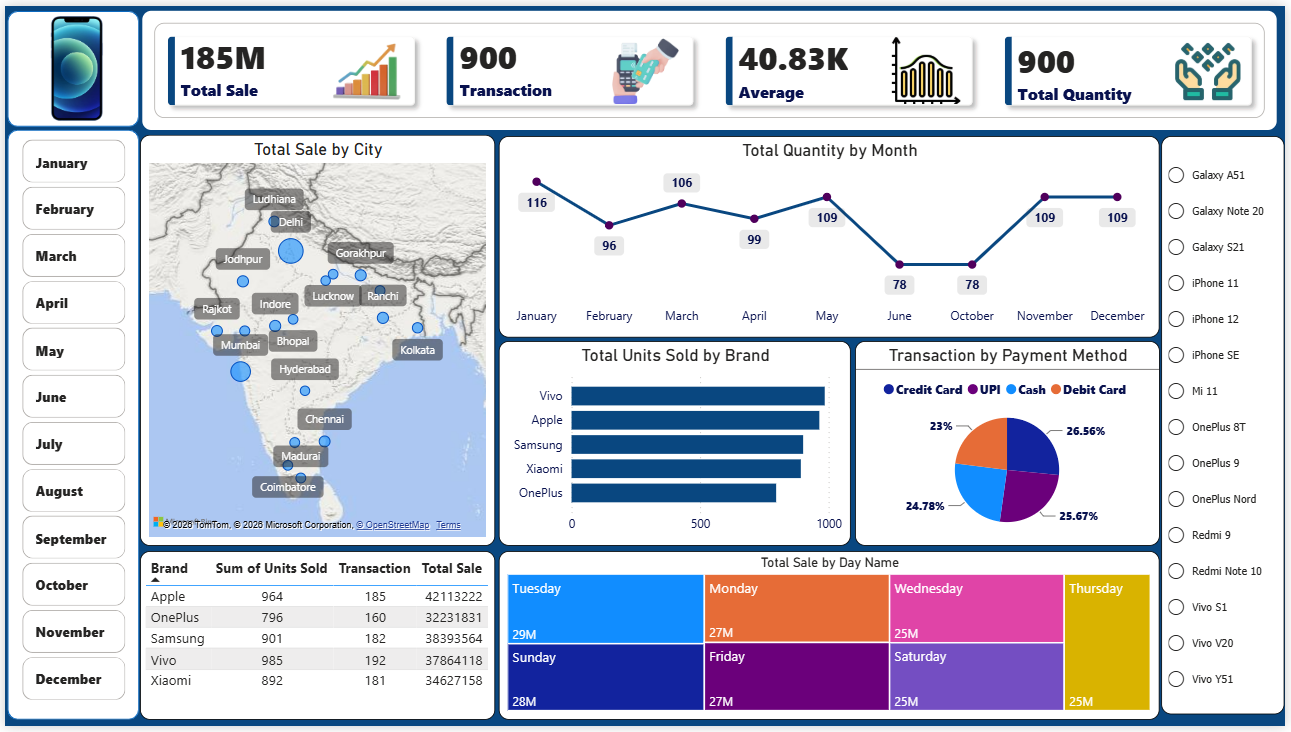

Layout of this report page (visuals, bound fields, positions):
{"tool":"powerbi","page":{"name":"Page 1","canvas":[1280,720],"ordinal":0},"visuals":[{"type":"shape","box":[2.4,4.8,131.5,115.8],"z":0},{"type":"image","box":[0,0,143.6,124.3],"z":1000},{"type":"shape","box":[2.4,124.3,131.5,589.9],"z":2000},{"type":"advancedSlicerVisual","fields":{"Values":["Moblie Sales Data.Date.Variation.Date Hierarchy.Month"]},"box":[12.1,129.1,113.4,580.3],"z":3000},{"type":"cardVisual","fields":{"Data":["Moblie Sales Data.Total Sale","Moblie Sales Data.Transaction","Moblie Sales Data.Average","Moblie Sales Data.Total Quantity"]},"box":[133,0,1147,129.8],"z":4000},{"type":"map","fields":{"Category":["Moblie Sales Data.City"],"Size":["Moblie Sales Data.Total Sale"]},"box":[135.6,128.4,354.9,411.2],"z":5000},{"type":"lineChart","fields":{"Category":["Moblie Sales Data.Date.Variation.Date Hierarchy.Month"],"Y":["Moblie Sales Data.Total Quantity"]},"box":[493.4,129.8,660.8,202],"z":6000},{"type":"barChart","title":"Total Units Sold by Brand","fields":{"Category":["Moblie Sales Data.Brand"],"Y":["Sum(Moblie Sales Data.Units Sold)"]},"box":[493.4,334.7,352,204.9],"z":7000},{"type":"pieChart","fields":{"Category":["Moblie Sales Data.Payment Method"],"Y":["Moblie Sales Data.Transaction"]},"box":[849.8,334.7,304.4,204.9],"z":8000},{"type":"tableEx","fields":{"Values":["Moblie Sales Data.Brand","Sum(Moblie Sales Data.Units Sold)","Moblie Sales Data.Transaction","Moblie Sales Data.Total Sale"]},"box":[135.6,545.4,354.9,168.8],"z":9000},{"type":"treemap","fields":{"Values":["Moblie Sales Data.Total Sale"],"Group":["Moblie Sales Data.Day Name"]},"box":[493.4,545.4,660.8,168.8],"z":10000},{"type":"listSlicer","fields":{"Values":["Moblie Sales Data.Mobile Model"]},"box":[1155.7,129.8,123,578.5],"z":10001}]}

Visuals, with their boxes in screenshot pixels (x1, y1, x2, y2), scaled from the page's 1280x720 canvas onto the 1291x732 screenshot:
shape: BBox(2, 5, 135, 123)
image: BBox(0, 0, 145, 126)
shape: BBox(2, 126, 135, 726)
advancedSlicerVisual - Moblie Sales Data.Date.Variation.Date Hierarchy.Month: BBox(12, 131, 127, 721)
cardVisual - Moblie Sales Data.Total Sale x Moblie Sales Data.Transaction: BBox(134, 0, 1290, 132)
map - Moblie Sales Data.City x Moblie Sales Data.Total Sale: BBox(137, 131, 495, 549)
lineChart - Moblie Sales Data.Date.Variation.Date Hierarchy.Month x Moblie Sales Data.Total Quantity: BBox(498, 132, 1164, 337)
"Total Units Sold by Brand" barChart: BBox(498, 340, 853, 549)
pieChart - Moblie Sales Data.Payment Method x Moblie Sales Data.Transaction: BBox(857, 340, 1164, 549)
tableEx - Moblie Sales Data.Brand x Sum(Moblie Sales Data.Units Sold): BBox(137, 554, 495, 726)
treemap - Moblie Sales Data.Total Sale x Moblie Sales Data.Day Name: BBox(498, 554, 1164, 726)
listSlicer - Moblie Sales Data.Mobile Model: BBox(1166, 132, 1290, 720)
